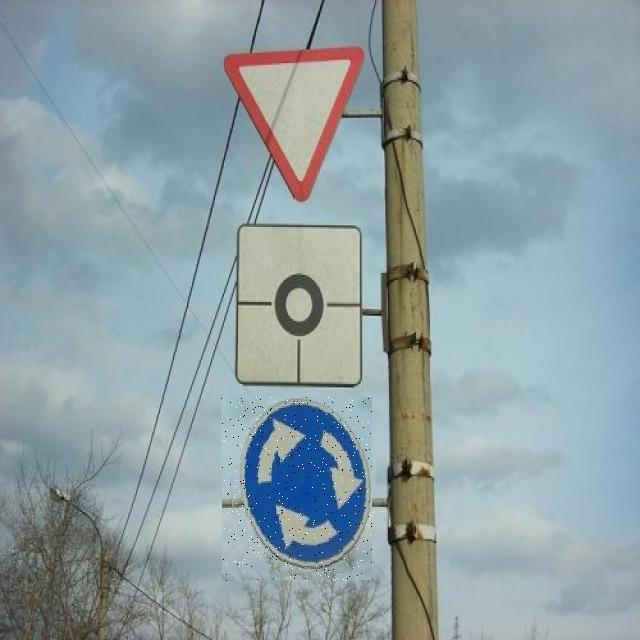roundabout: (221, 397, 372, 581)
